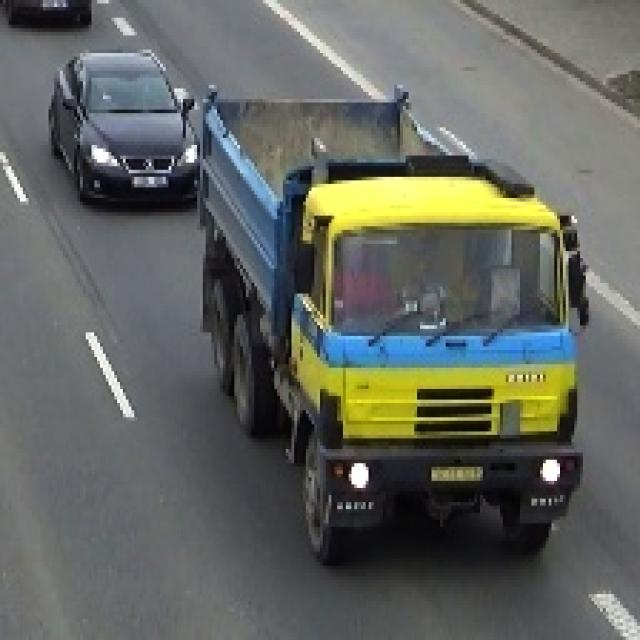truck: (195, 86, 590, 563)
